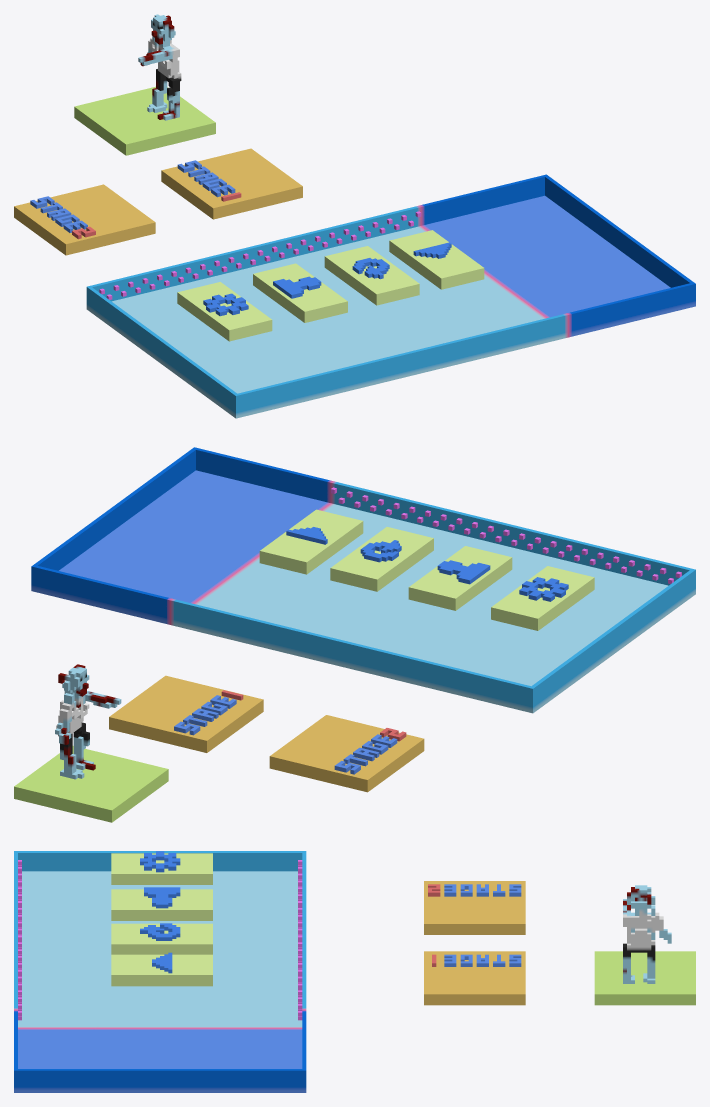
Rendered from MOROGORO.dae.
3 views of the same model, one above another, from view 1: azimuth 30°, elevation 25°; view 2: azimuth 150°, elevation 25°; view 3: azimuth 270°, elevation 25° (orthographic). The views are drawn at different scales.
Parts seen in each view (by area): view 1: BACKGROUND, Matrix_3, Matrix_4, Matrix_5, Matrix, SETTINGS, Matrix_1, SETTINGS_1, Matrix_2; view 2: BACKGROUND, Matrix_4, Matrix_3, Matrix_5, SETTINGS_1, Matrix_1, Matrix, SETTINGS, Matrix_2; view 3: BACKGROUND, Matrix_3, Matrix_4, Matrix_5, Matrix_1, SETTINGS_1, SETTINGS, Matrix, Matrix_2.
Boxes of the visible parts, left/top/right/bottom form: BACKGROUND: left=86, top=174, right=695, bottom=418; Matrix_3: left=161, top=148, right=302, bottom=219; Matrix_4: left=14, top=184, right=155, bottom=255; Matrix_5: left=74, top=86, right=215, bottom=155; Matrix: left=324, top=246, right=419, bottom=305; SETTINGS: left=177, top=282, right=272, bottom=341; Matrix_1: left=389, top=230, right=484, bottom=289; SETTINGS_1: left=253, top=263, right=347, bottom=322; Matrix_2: left=138, top=14, right=181, bottom=120; BACKGROUND: left=31, top=447, right=695, bottom=713; Matrix_4: left=269, top=715, right=424, bottom=792; Matrix_3: left=109, top=675, right=263, bottom=752; Matrix_5: left=14, top=746, right=168, bottom=822; SETTINGS_1: left=408, top=546, right=512, bottom=610; Matrix_1: left=259, top=509, right=363, bottom=574; Matrix: left=330, top=527, right=433, bottom=591; SETTINGS: left=491, top=566, right=594, bottom=630; Matrix_2: left=55, top=664, right=121, bottom=779; BACKGROUND: left=14, top=851, right=306, bottom=1092; Matrix_3: left=424, top=951, right=525, bottom=1005; Matrix_4: left=424, top=881, right=525, bottom=934; Matrix_5: left=594, top=951, right=695, bottom=1005; Matrix_1: left=111, top=952, right=212, bottom=986; SETTINGS_1: left=111, top=887, right=212, bottom=920; SETTINGS: left=111, top=851, right=212, bottom=884; Matrix: left=111, top=923, right=212, bottom=954; Matrix_2: left=623, top=885, right=671, bottom=983.
Bounding box in the file's own units: 128 × 28 × 168.
